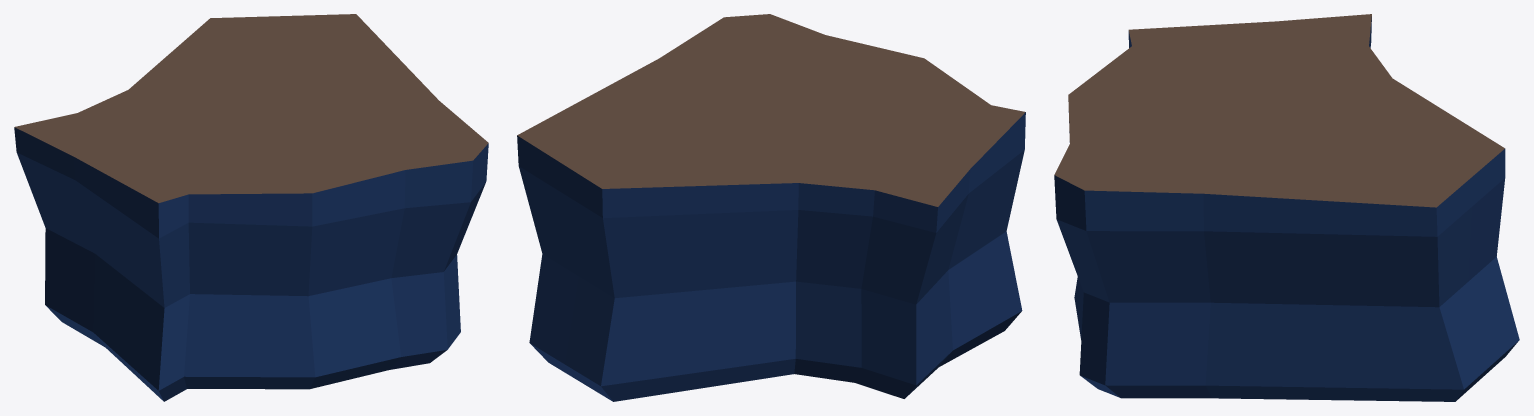
The model's file is Land_05_low.fbx.
The picture shows the model from 3 angles, left to right: view 1: azimuth 30°, elevation 25°; view 2: azimuth 150°, elevation 25°; view 3: azimuth 270°, elevation 25°; orthographic projection. The views are drawn at different scales.
Parts seen in each view (by area): view 1: Land_05_low; view 2: Land_05_low; view 3: Land_05_low.
Boxes of the visible parts, x1=… form: Land_05_low: x1=14, y1=14, x2=488, y2=401; Land_05_low: x1=517, y1=14, x2=1025, y2=401; Land_05_low: x1=1054, y1=14, x2=1519, y2=401.
Size of the model in its own units: 1492 by 812 by 1517.
